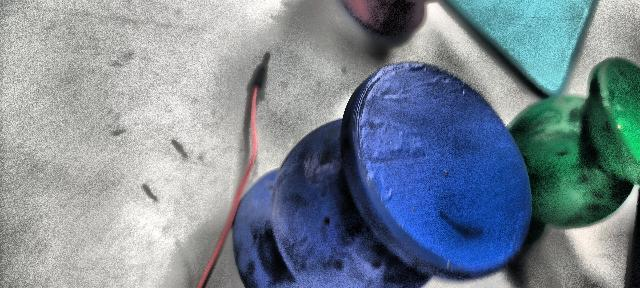blue: (235, 60, 528, 288)
green: (506, 60, 640, 267)
